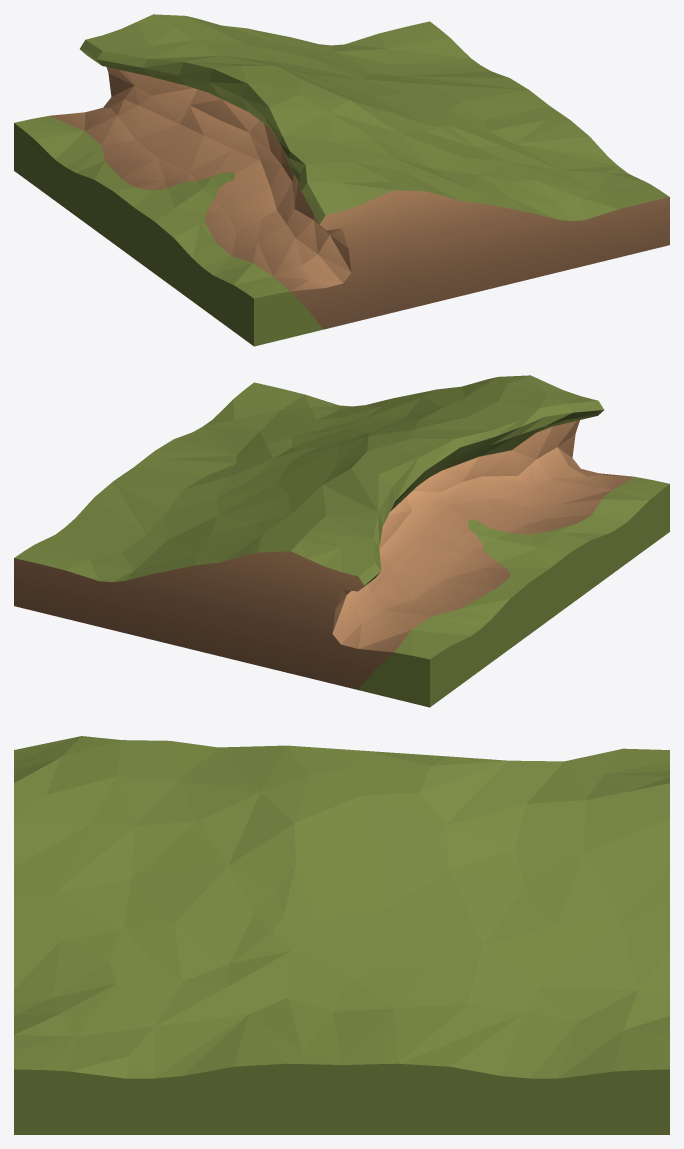
File: Terrian_CliffGrass_Hill_Straight-01.fbx
The picture shows the model from 3 angles, top to bottom: view 1: azimuth 30°, elevation 25°; view 2: azimuth 150°, elevation 25°; view 3: azimuth 270°, elevation 25°; orthographic projection. The views are drawn at different scales.
Parts seen in each view (by area): view 1: Terrian_CliffGrass_Hill_Straight-01; view 2: Terrian_CliffGrass_Hill_Straight-01; view 3: Terrian_CliffGrass_Hill_Straight-01.
Part boxes in pixels (x1,y1,x2,y2): Terrian_CliffGrass_Hill_Straight-01: [14, 14, 669, 346]; Terrian_CliffGrass_Hill_Straight-01: [14, 375, 669, 707]; Terrian_CliffGrass_Hill_Straight-01: [14, 736, 669, 1134].
Size of the model in its own units: 3600 by 1143 by 3600.
Materials: 1 (1 with a texture image).
